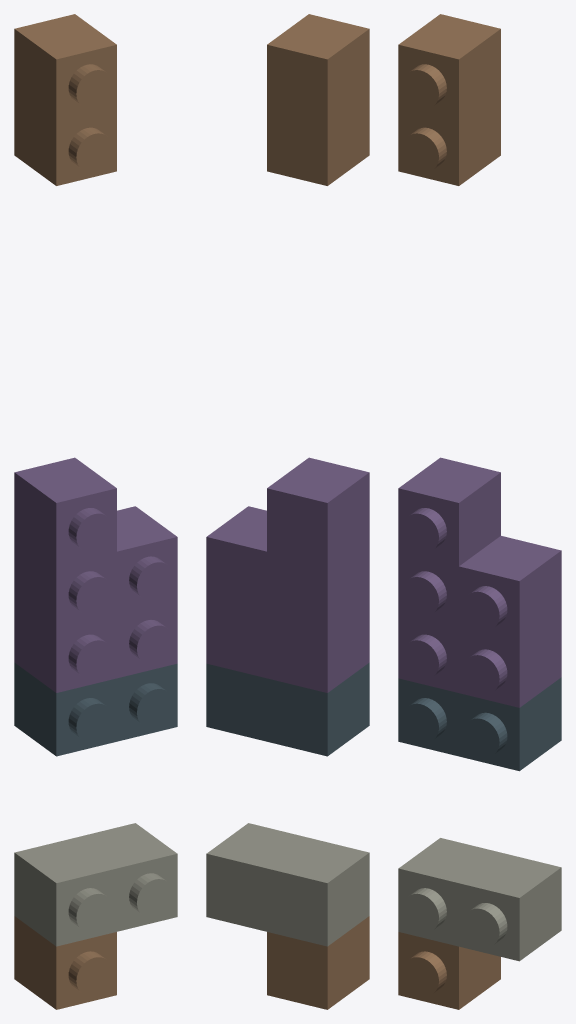
File: current.glb
3 renders of one model, left to right at view 1: azimuth 30°, elevation 25°; view 2: azimuth 150°, elevation 25°; view 3: azimuth 330°, elevation 25°, orthographic.
Visible parts, largest first — view 1: world; view 2: world; view 3: world.
Boxes of the visible parts, <box> form: world: <box>14,14,177,1009</box>; world: <box>206,14,369,1009</box>; world: <box>398,14,561,1009</box>.
Bounding box in the file's own units: 16 × 120 × 11.4.
